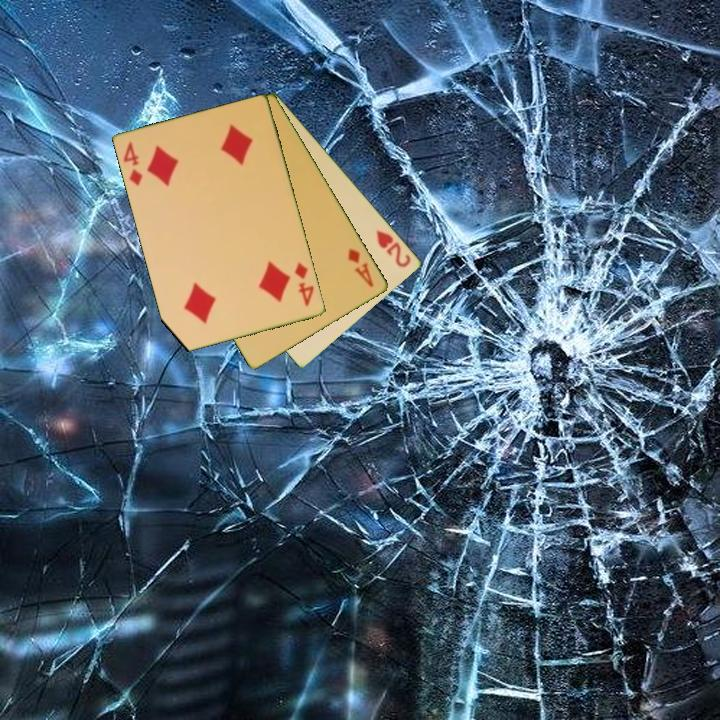2h: (373, 226, 414, 270)
4d: (120, 138, 146, 189), (291, 259, 317, 309)
Ad: (345, 245, 377, 290)
